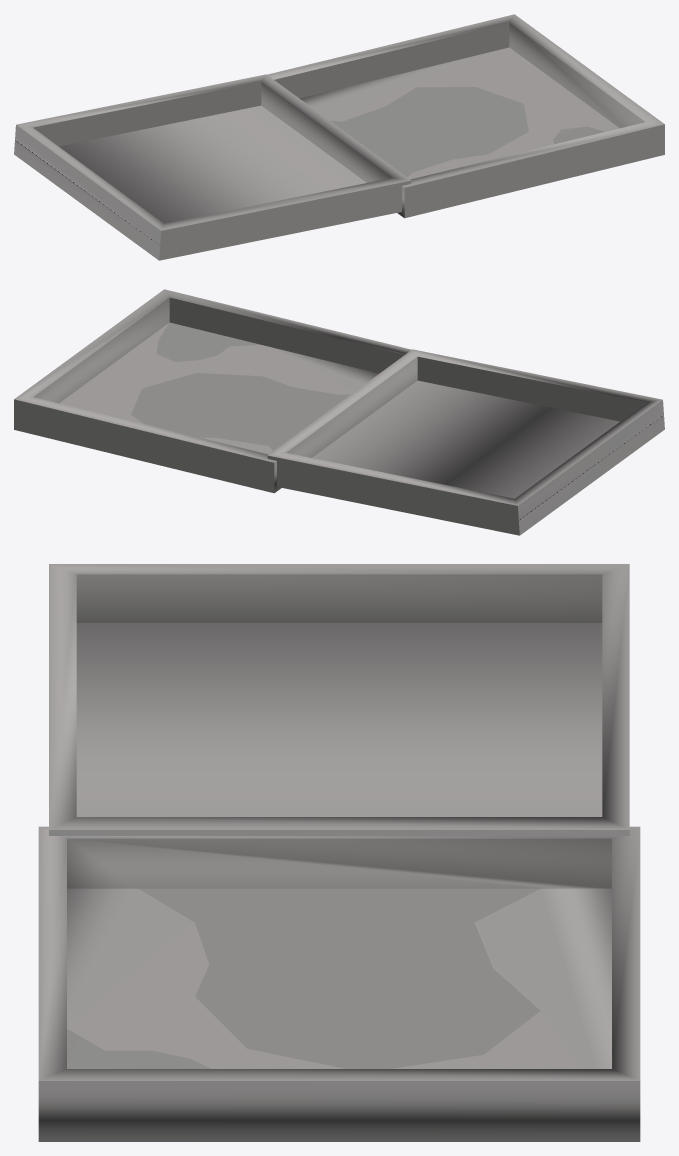
Rendered from apoc_prop_27.glb.
3 renders of one model, top to bottom at view 1: azimuth 30°, elevation 25°; view 2: azimuth 150°, elevation 25°; view 3: azimuth 270°, elevation 25°, orthographic. The views are drawn at different scales.
Visible parts, largest first — view 1: prop_028; view 2: prop_028; view 3: prop_028.
Boxes of the visible parts, bbox=[...] form: prop_028: bbox=[14, 14, 664, 260]; prop_028: bbox=[14, 289, 664, 535]; prop_028: bbox=[38, 564, 640, 1141].
Size of the model in its own units: 0.1923 by 0.0162 by 0.0995.
Materials: 1 (1 with a texture image).
